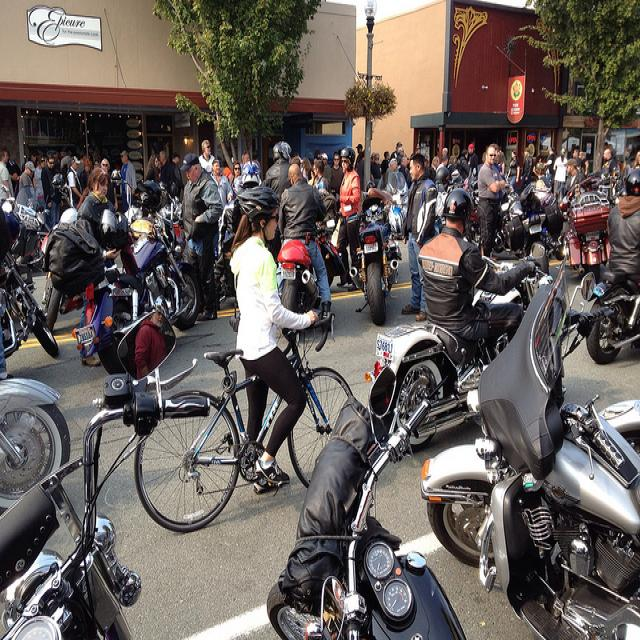motor: (13, 160, 618, 359), (421, 243, 640, 633), (0, 358, 213, 640), (267, 402, 468, 640), (369, 249, 534, 470), (0, 294, 75, 514), (75, 251, 150, 376), (126, 219, 203, 329), (43, 209, 103, 332), (349, 189, 401, 325), (558, 173, 610, 281), (588, 272, 640, 367), (276, 241, 320, 315), (320, 202, 340, 279)
